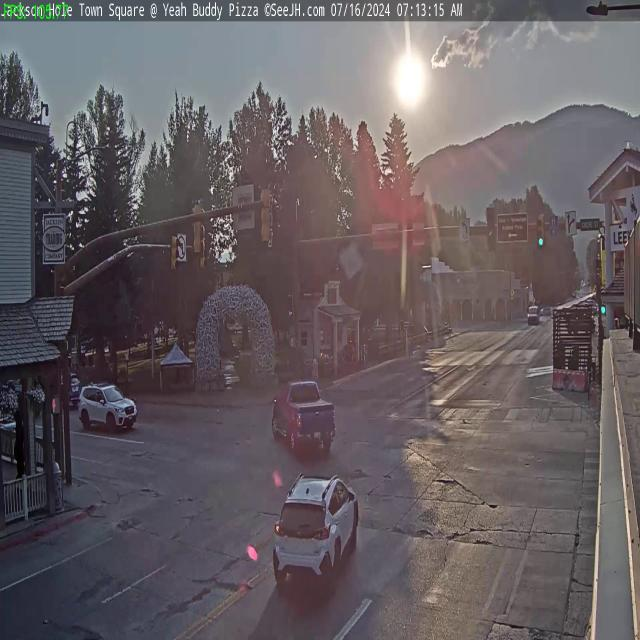pickup: (270, 380, 336, 457)
suv: (271, 470, 361, 585), (77, 383, 138, 432)
traffic light: (259, 186, 273, 246), (192, 200, 204, 257), (486, 205, 496, 254), (171, 235, 178, 272), (537, 214, 544, 250), (201, 238, 208, 271)
van: (527, 306, 540, 325)
